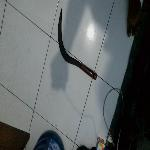Celurit: (49, 7, 113, 83)
